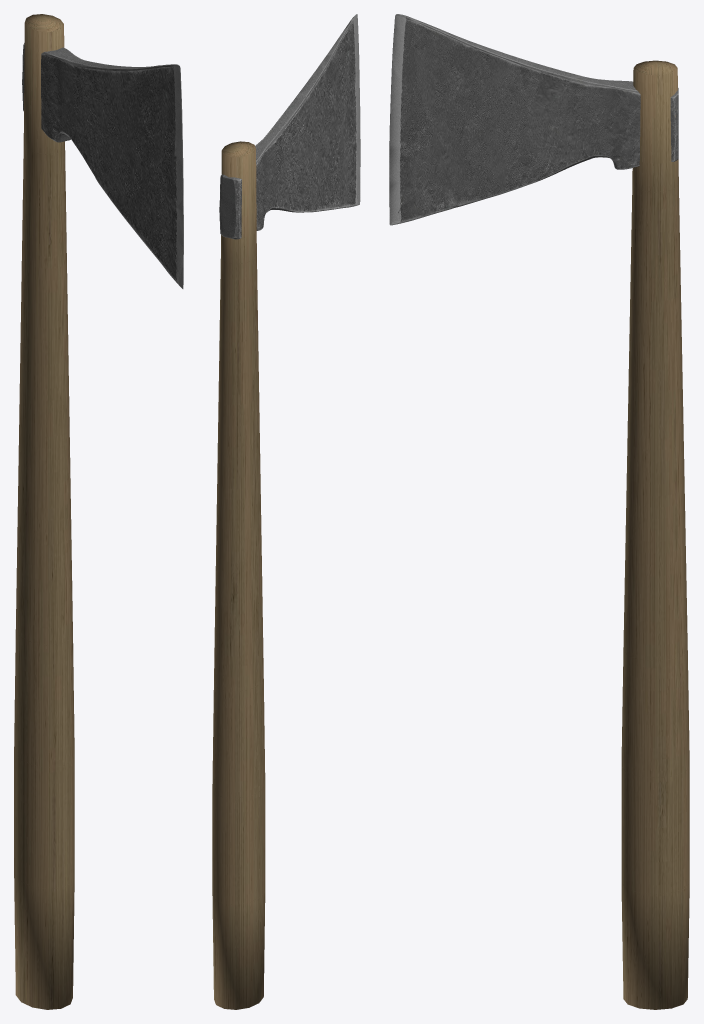
Rendered from axe_broad_p2_w1.glb.
The picture shows the model from 3 angles, left to right: view 1: azimuth 30°, elevation 25°; view 2: azimuth 150°, elevation 25°; view 3: azimuth 270°, elevation 25°; orthographic projection. The views are drawn at different scales.
Visible parts, largest first — view 1: axe_broad_p2_w1; view 2: axe_broad_p2_w1; view 3: axe_broad_p2_w1.
Part boxes in pixels (<box>): axe_broad_p2_w1: <box>14,14,183,1009</box>; axe_broad_p2_w1: <box>212,14,360,1009</box>; axe_broad_p2_w1: <box>389,14,689,1009</box>.
Size of the model in its own units: 0.0339 by 0.6804 by 0.1868.
2 materials, 2 textured.
